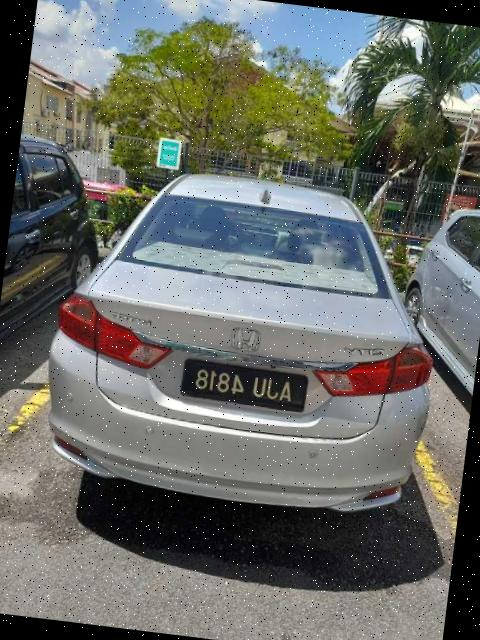License_Plate: (180, 357, 311, 412)
car: (34, 155, 456, 525)
